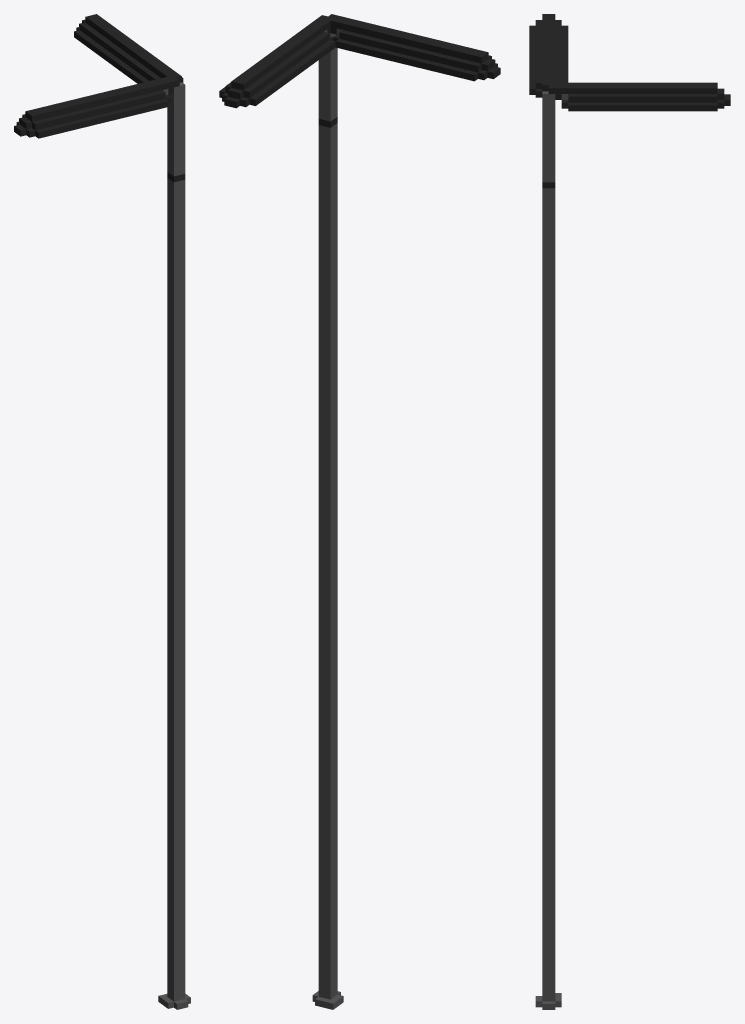
File: lampTwo.glb
3 views of the same model, side by side, from view 1: azimuth 30°, elevation 25°; view 2: azimuth 150°, elevation 25°; view 3: azimuth 270°, elevation 25° (orthographic). The views are drawn at different scales.
Visible parts, largest first — view 1: ObjObject; view 2: ObjObject; view 3: ObjObject.
Boxes of the visible parts, x1=… form: ObjObject: x1=14, y1=14, x2=190, y2=1009; ObjObject: x1=219, y1=14, x2=500, y2=1009; ObjObject: x1=529, y1=14, x2=730, y2=1009.
Size of the model in its own units: 3.1 by 15.6 by 3.1.
2 materials, 1 textured.
